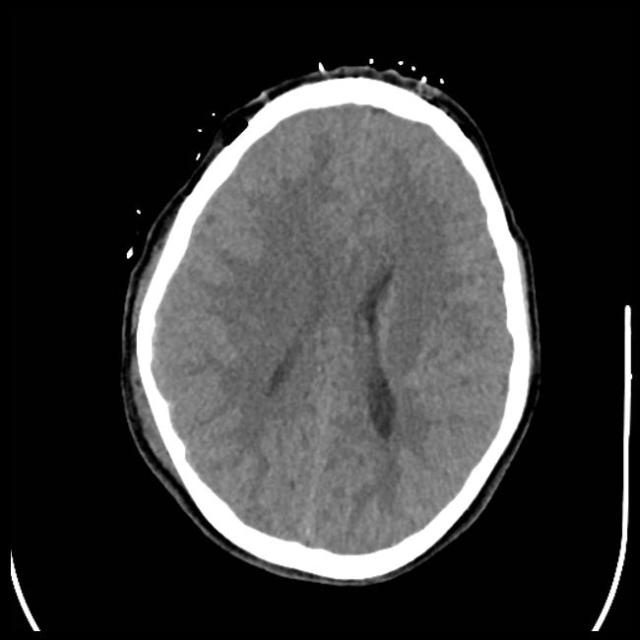lesion: (120, 64, 543, 583)
